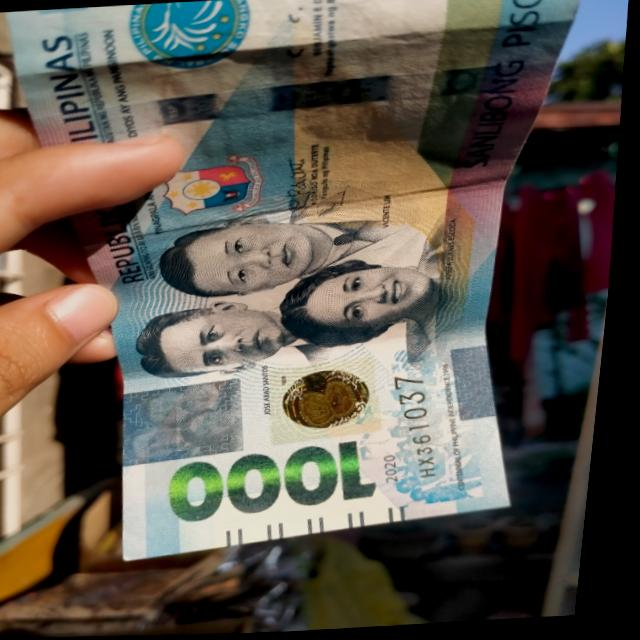concealed_value: (132, 379, 254, 465)
optically_variable_device: (278, 355, 390, 445)
security_thread: (35, 60, 556, 145)
serial_number: (388, 372, 462, 489)
value: (172, 433, 388, 530)
